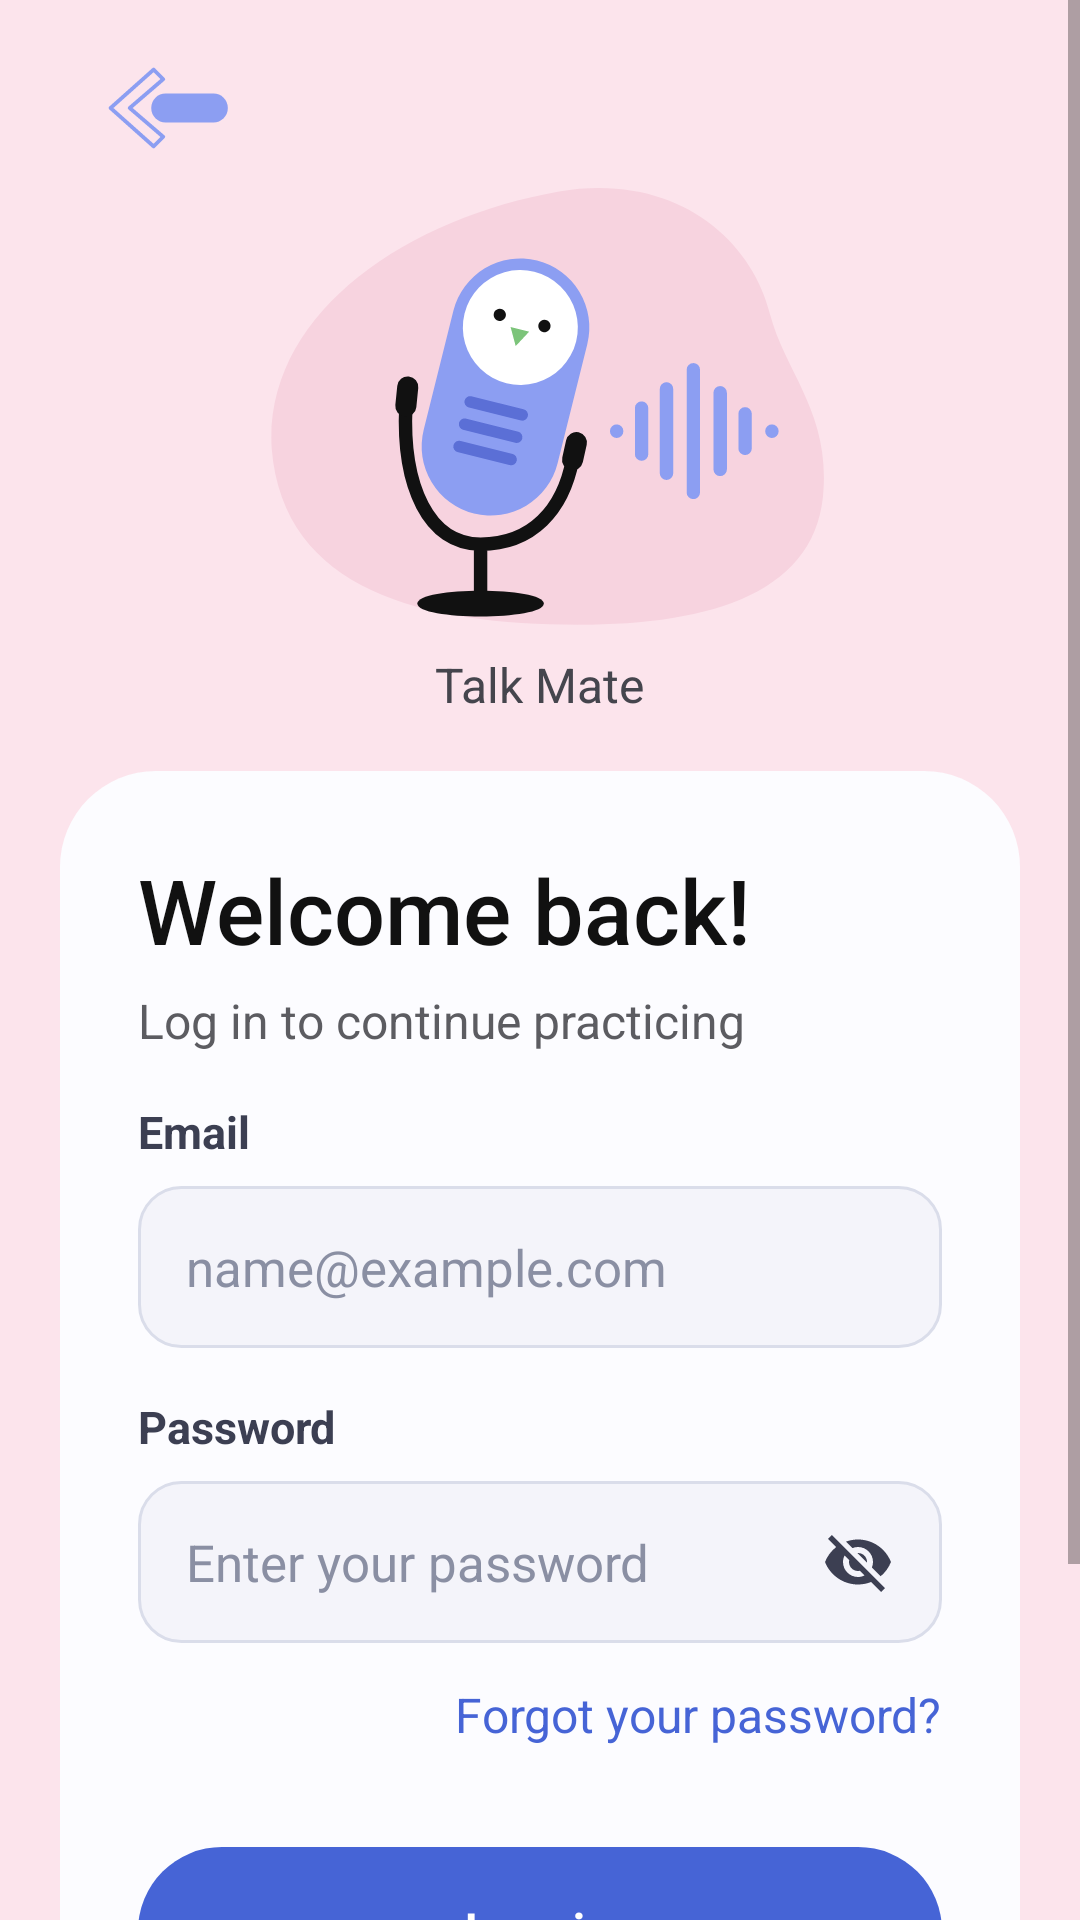

Named icons in this screenshot (1080px x 1920px) and their centers, (x,y):
Back: (168,108)
Show password: (858,1563)
